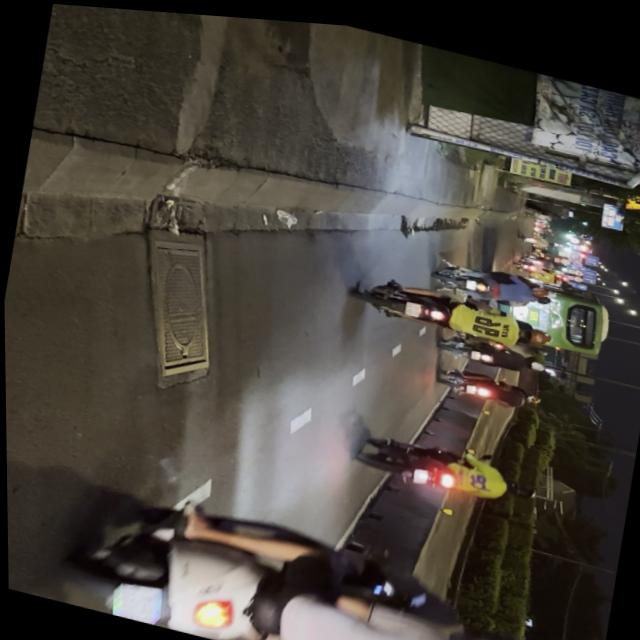helmet: (453, 616, 537, 640), (502, 469, 537, 494), (518, 317, 549, 340)
licenseplate: (51, 465, 551, 640), (349, 410, 541, 512), (350, 263, 554, 353)
nohelmet: (110, 578, 163, 624), (410, 460, 428, 479), (402, 294, 420, 312)
